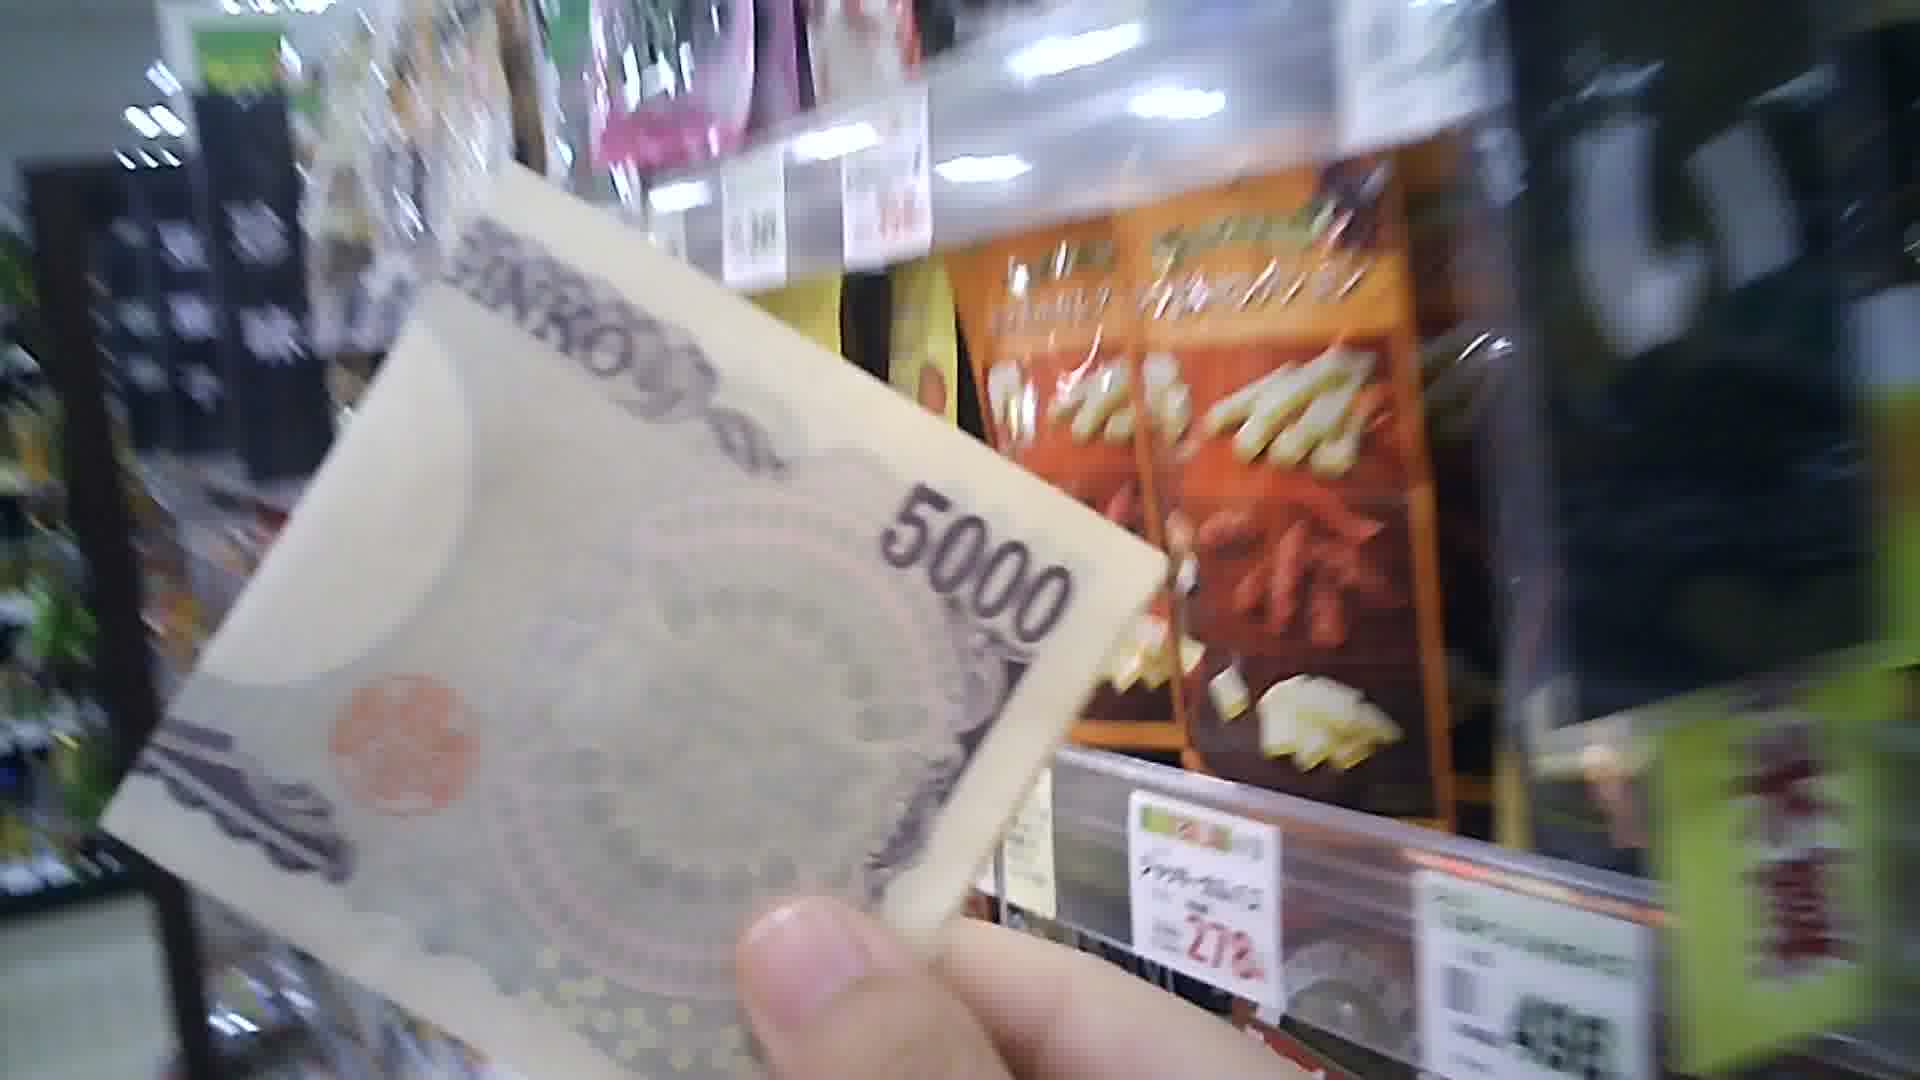5,000 Yen: (113, 115, 1170, 1064)
